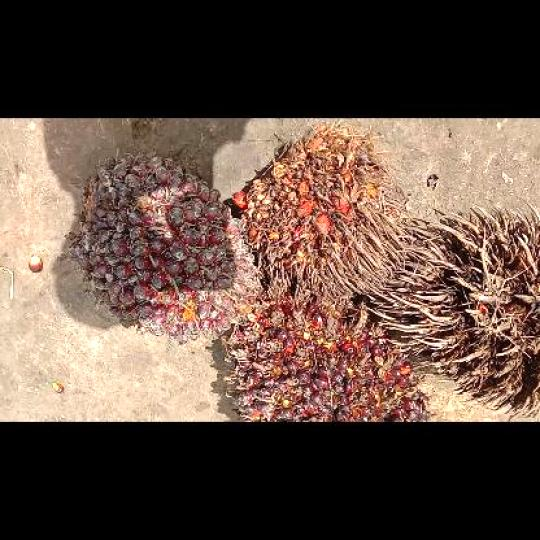kurang masak: (68, 147, 268, 341)
masak: (220, 306, 432, 418)
terlalu masak: (231, 121, 418, 310)
